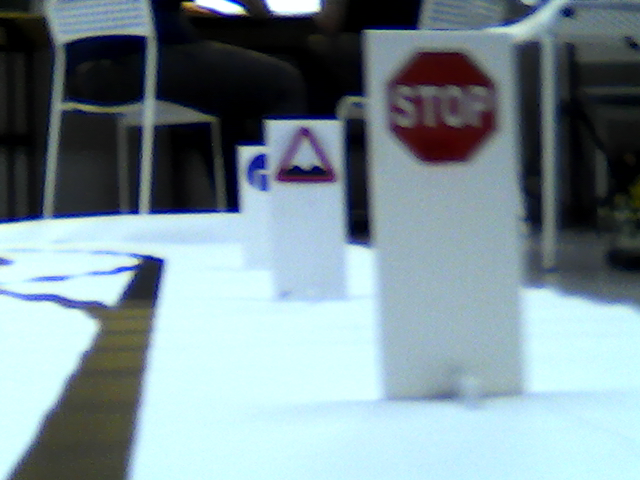Nerov: (272, 125, 338, 187)
Stop: (390, 47, 495, 166)
